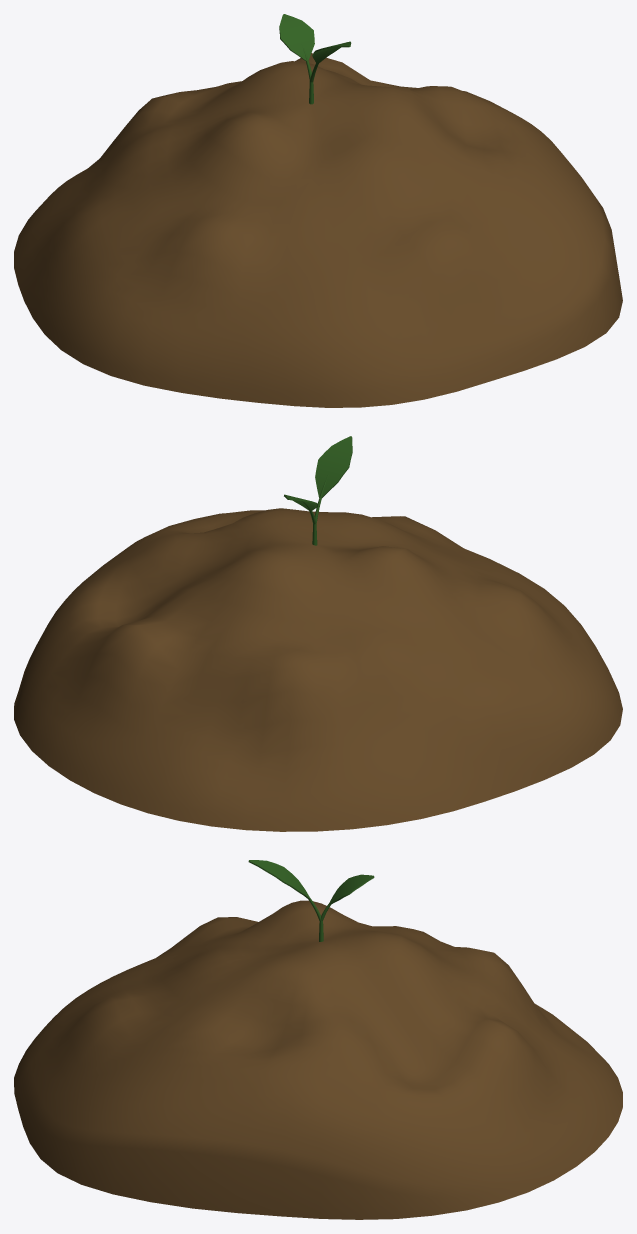
Rendered from CARROT_first_leaves.fbx.
3 views of the same model, one above another, from view 1: azimuth 30°, elevation 25°; view 2: azimuth 150°, elevation 25°; view 3: azimuth 270°, elevation 25° (orthographic). The views are drawn at different scales.
Parts seen in each view (by area): view 1: pCylinder22; view 2: pCylinder22; view 3: pCylinder22.
Part boxes in pixels (x1=…): pCylinder22: x1=14, y1=14, x2=622, y2=407; pCylinder22: x1=14, y1=436, x2=622, y2=831; pCylinder22: x1=14, y1=860, x2=622, y2=1219.
Bounding box in the file's own units: 0.936 × 0.4284 × 0.9833.
